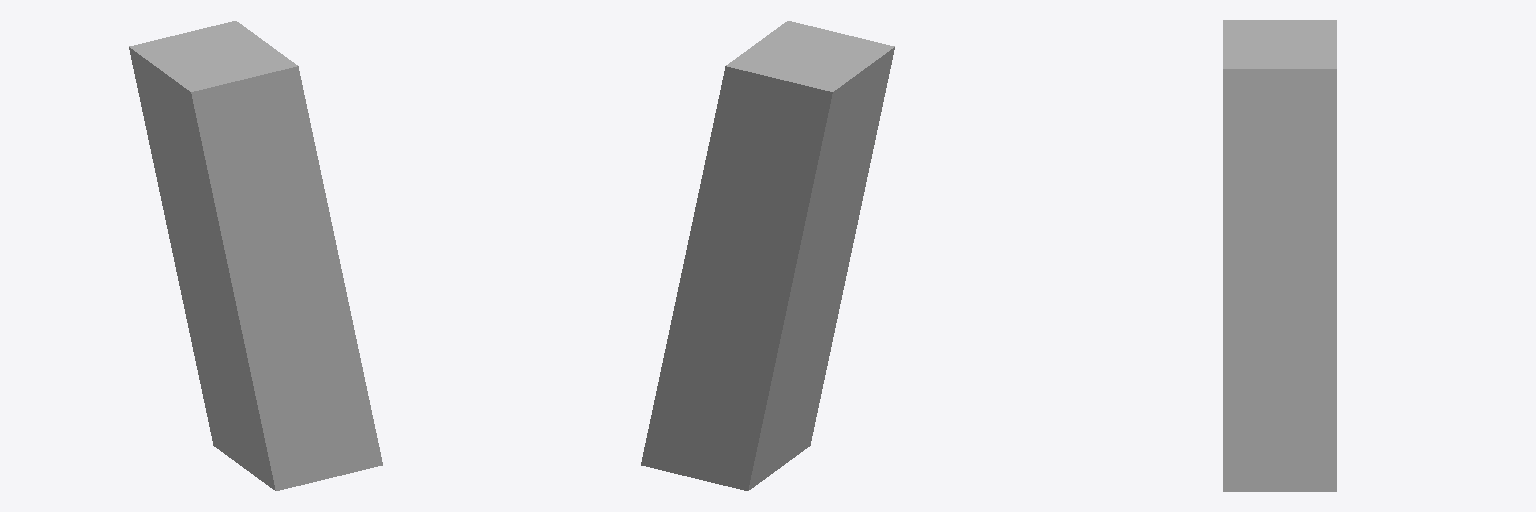
robot.urdf — root:
<robot name="root">
  <link name="link_Skewed Rectangular Prism_convex_piece_0">
    <inertial>
      <origin xyz="0 0 0" rpy="0 0 0"/>
      <mass value="2.15E-01"/>
      <inertia ixx="4.74E-04" ixy="6.83E-22" ixz="9.35E-05" iyy="4.94E-04" iyz="4.64E-24" izz="8.35E-05"/>
    </inertial>
    <visual>
      <origin xyz="0 0 0" rpy="0 0 0"/>
      <geometry>
        <mesh filename="Skewed Rectangular Prism_convex_piece_0.obj" scale="1.0000E+00 1.0000E+00 1.0000E+00"/>
      </geometry>
      <material name="">
        <color rgba="7.50E-01 7.50E-01 7.50E-01 1"/>
      </material>
    </visual>
    <collision>
      <origin xyz="0 0 0" rpy="0 0 0"/>
      <geometry>
        <mesh filename="Skewed Rectangular Prism_convex_piece_0.obj" scale="1.0000E+00 1.0000E+00 1.0000E+00"/>
      </geometry>
    </collision>
  </link>
</robot>

--- What the picture shows (computed from the rendered views, not written in the file) ---
The picture shows the robot from 3 angles, left to right: view 1: azimuth 30°, elevation 25°; view 2: azimuth 150°, elevation 25°; view 3: azimuth 270°, elevation 25°; orthographic projection.
Model root with 1 links and 0 joints (none), rooted at link_Skewed Rectangular Prism_convex_piece_0, posed all joints at 0.
Visible links, largest first — view 1: link_Skewed Rectangular Prism_convex_piece_0; view 2: link_Skewed Rectangular Prism_convex_piece_0; view 3: link_Skewed Rectangular Prism_convex_piece_0.
Link boxes in pixels (x1=…): link_Skewed Rectangular Prism_convex_piece_0: x1=129, y1=21, x2=382, y2=490; link_Skewed Rectangular Prism_convex_piece_0: x1=641, y1=21, x2=894, y2=490; link_Skewed Rectangular Prism_convex_piece_0: x1=1223, y1=20, x2=1336, y2=491.
Bounding box of the posed robot: 0.0753 × 0.0423 × 0.1571 m (x, y, z).
Meshes: 1 distinct files referenced, 1 mesh visuals loaded (1 OBJ).
